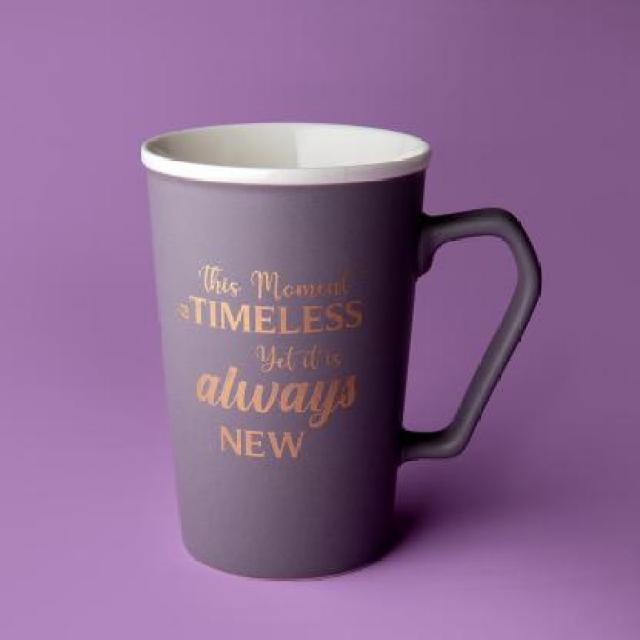taza: (138, 122, 547, 582)
